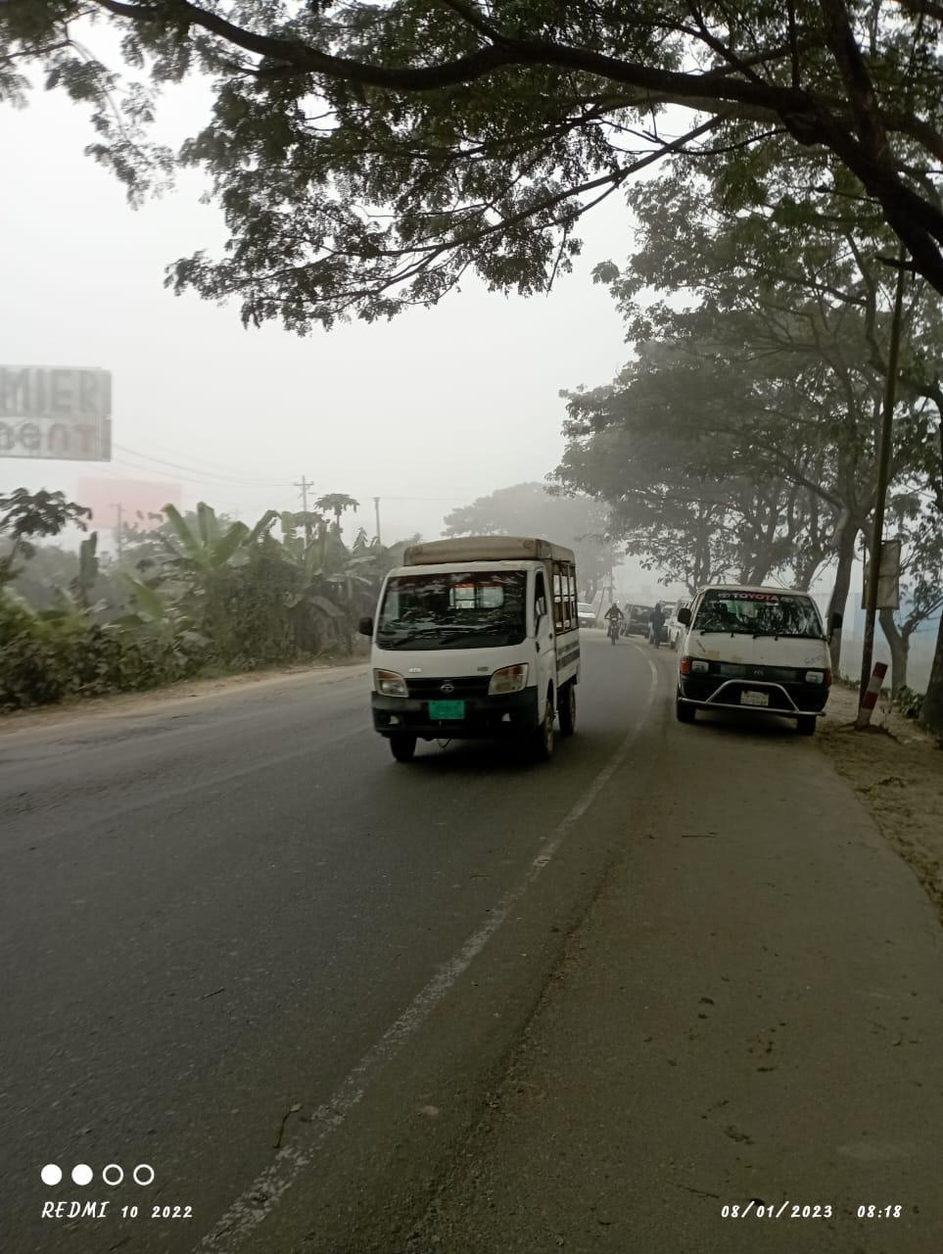Bike: (599, 599, 629, 654)
Car: (354, 526, 588, 755), (667, 579, 844, 740)
